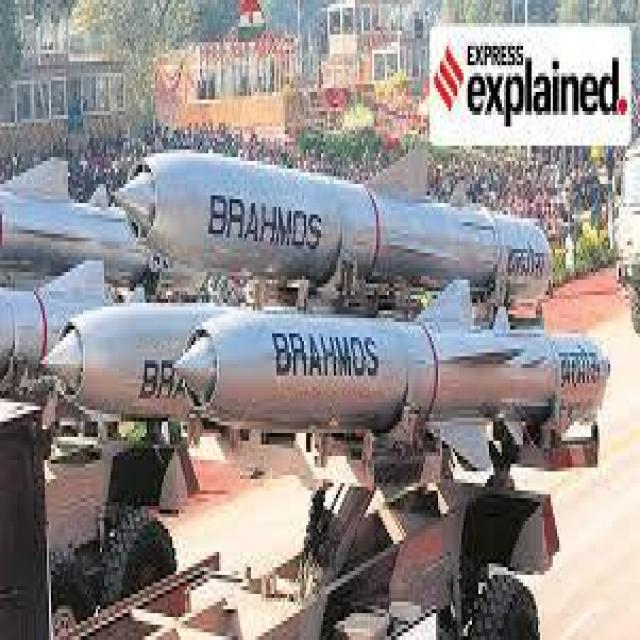rocket: (11, 155, 612, 447)
